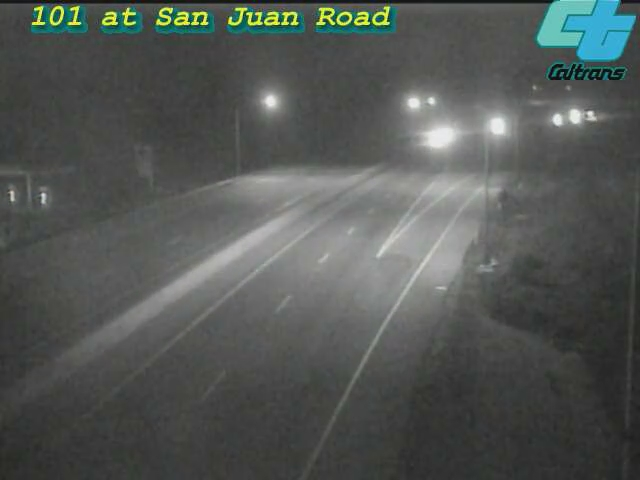vehicle: (568, 92, 618, 142), (416, 113, 466, 163), (475, 101, 525, 151), (425, 109, 475, 159), (538, 94, 588, 144), (549, 91, 599, 141)
